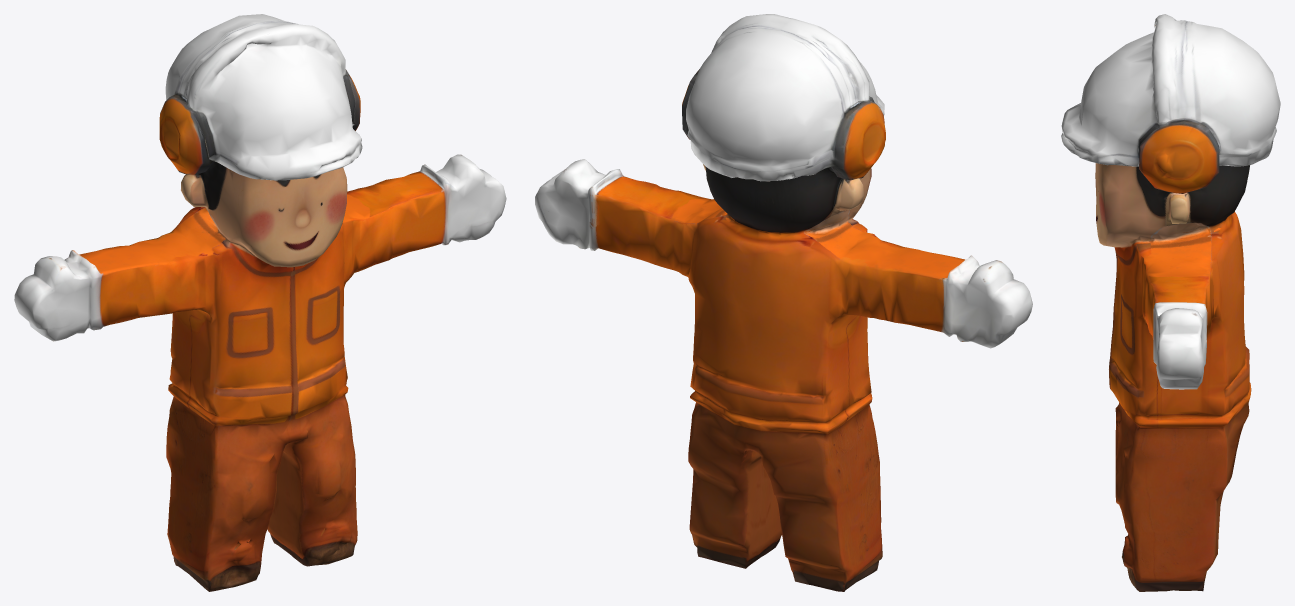
Rendered from worker.glb.
3 renders of one model, left to right at view 1: azimuth 30°, elevation 25°; view 2: azimuth 150°, elevation 25°; view 3: azimuth 270°, elevation 25°, orthographic. The views are drawn at different scales.
Bounding box in the file's own units: 60383 × 65190 × 24465.
Materials: 1 (1 with a texture image).
